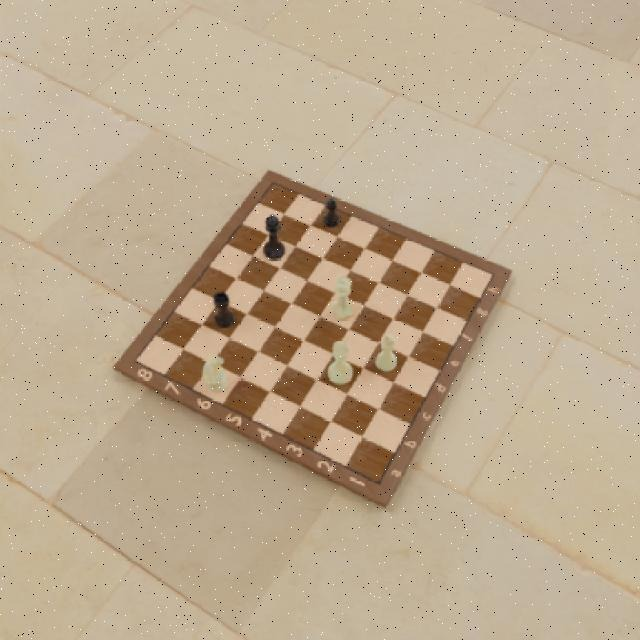black-king: (260, 213, 287, 263)
black-pawn: (321, 196, 343, 228)
black-rook: (210, 290, 235, 329)
white-bishop: (375, 334, 401, 372)
white-king: (327, 338, 355, 385)
white-knight: (201, 355, 231, 395)
white-queen: (330, 274, 353, 322)
